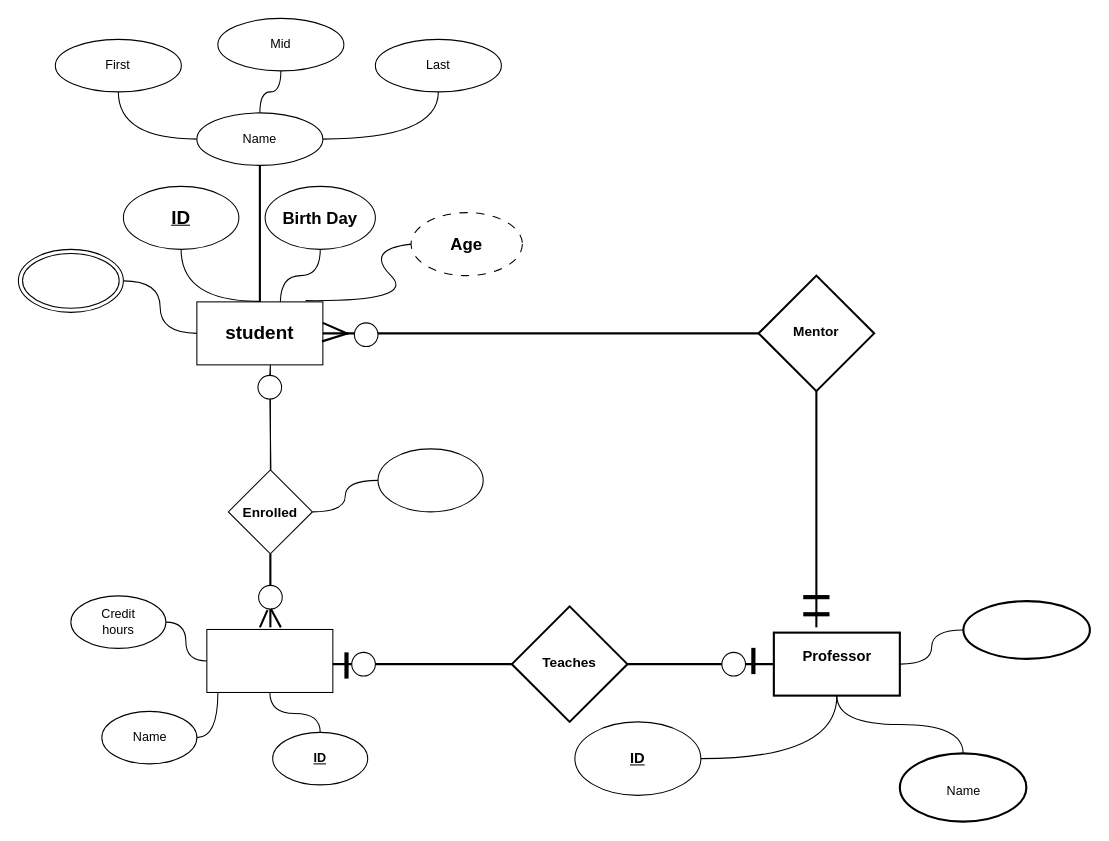
Image size: 1109x841. Some labels were removed from this diagram. Each missing label, with the box of its shape:
Courses: (206, 628, 333, 692)
Enrolling Date: (377, 448, 483, 512)
phone: (17, 248, 123, 312)
Salary: (962, 600, 1090, 659)
